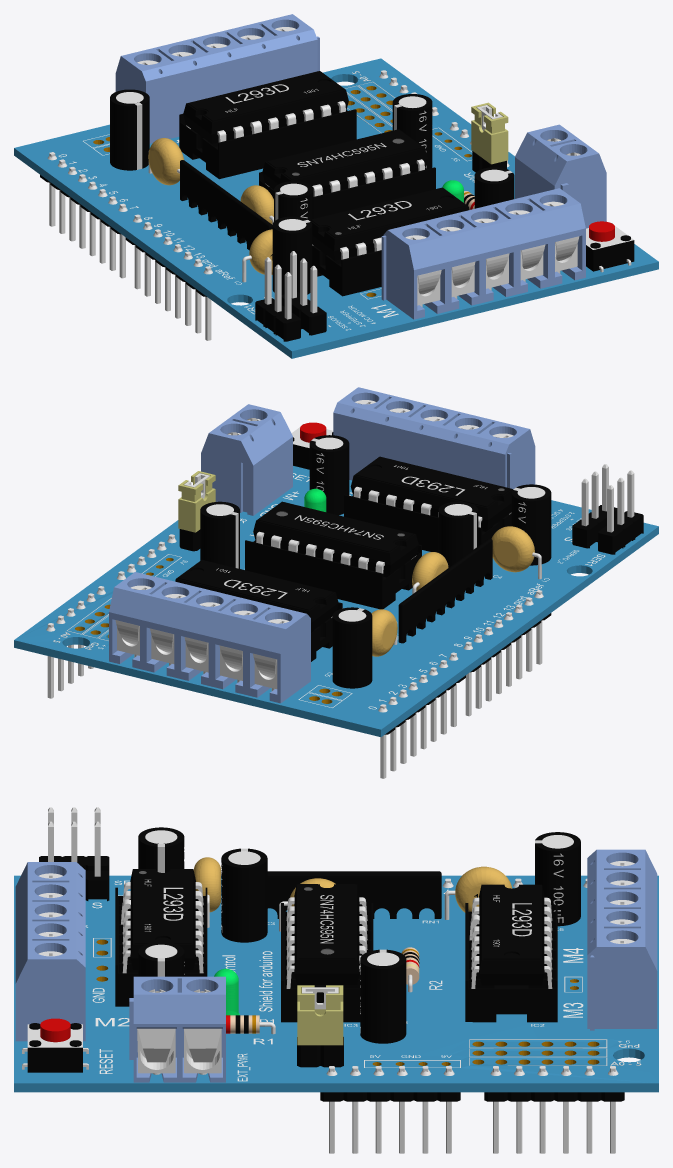
File: motor-shield-l293d.glb
The picture shows the model from 3 angles, top to bottom: view 1: azimuth 30°, elevation 25°; view 2: azimuth 150°, elevation 25°; view 3: azimuth 270°, elevation 25°; orthographic projection. The views are drawn at different scales.
Visible parts, largest first — view 1: /scene/Meshes/Sketchfab_model/Collada_visual_scene_group/Mot (×12); view 2: /scene/Meshes/Sketchfab_model/Collada_visual_scene_group/Mot (×10); view 3: /scene/Meshes/Sketchfab_model/Collada_visual_scene_group/Mot (×14).
Part boxes in pixels (box(x1,y1,x2,y2)): /scene/Meshes/Sketchfab_model/Collada_visual_scene_group/Mot (×12): box(14, 14, 658, 358); /scene/Meshes/Sketchfab_model/Collada_visual_scene_group/Mot (×10): box(14, 387, 658, 778); /scene/Meshes/Sketchfab_model/Collada_visual_scene_group/Mot (×14): box(14, 807, 658, 1153).
Bounding box in the file's own units: 2.44 × 0.8896 × 3.2.
